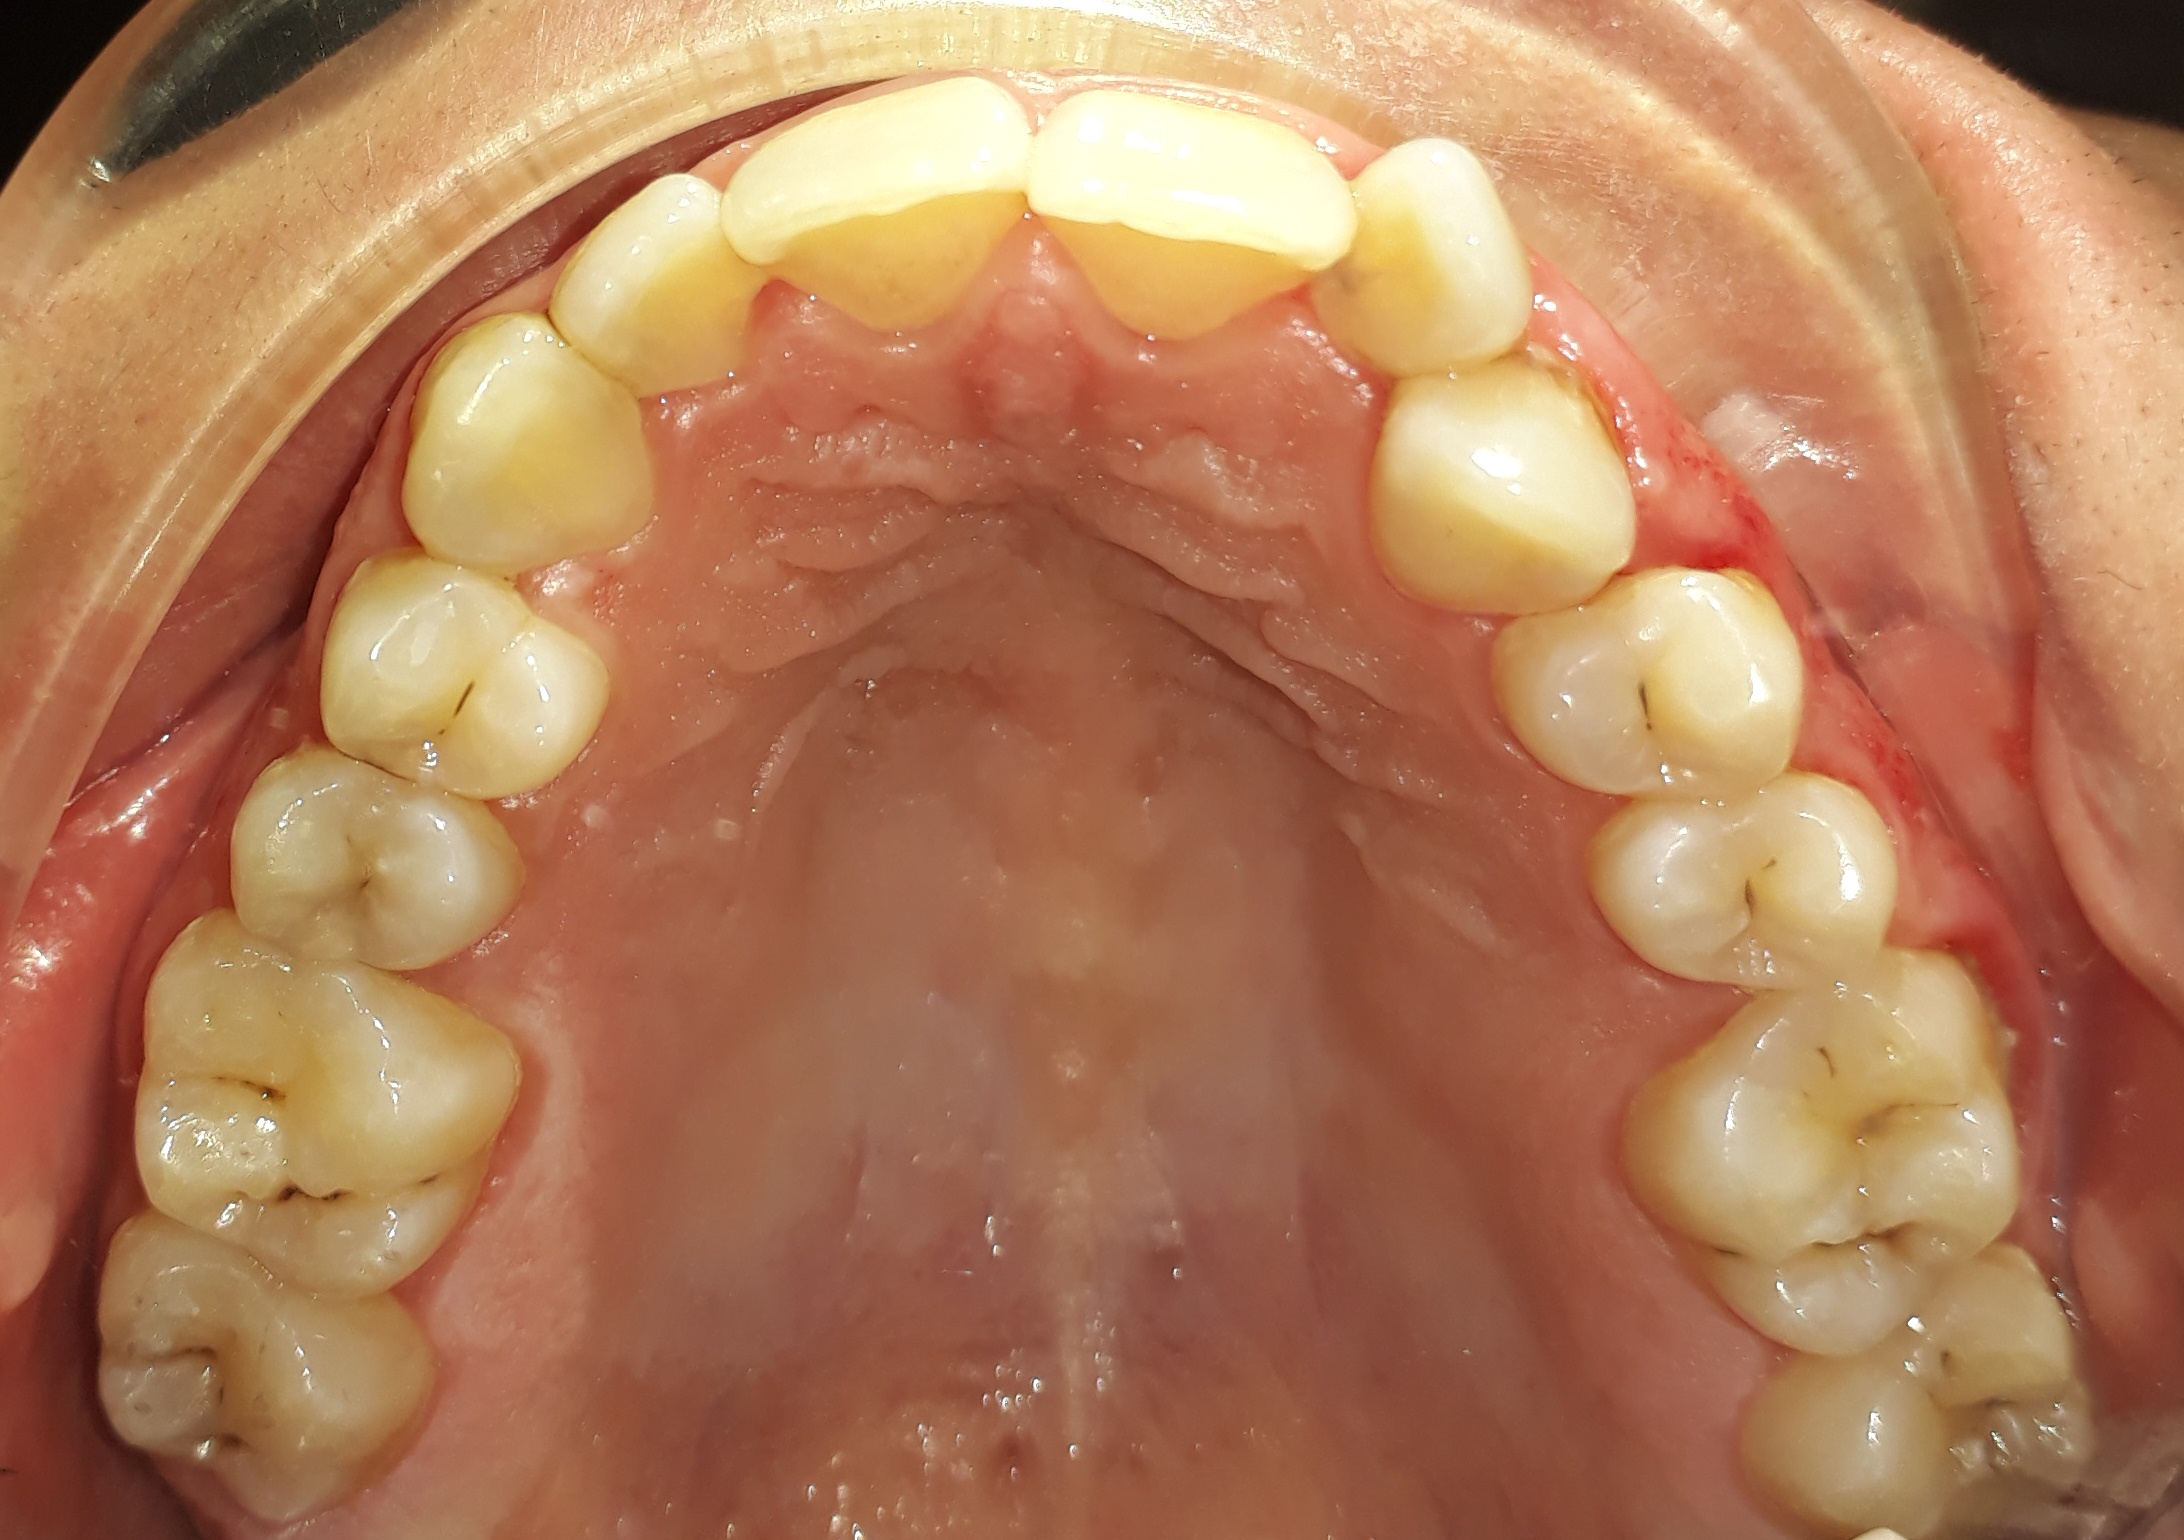1st Molar: (1638, 948, 2039, 1345), (133, 923, 501, 1287)
1st Premolar: (318, 548, 606, 793), (1496, 567, 1803, 797)
2nd Molar: (92, 1222, 436, 1538), (1751, 1260, 2087, 1538)
2nd Premolar: (1591, 772, 1897, 990), (233, 745, 516, 963)
Canine: (1374, 352, 1634, 607), (400, 312, 660, 557)
Central Incisor: (1036, 82, 1346, 343), (731, 78, 1035, 343)
Lateral Incisor: (1328, 127, 1529, 368), (548, 168, 755, 390)
